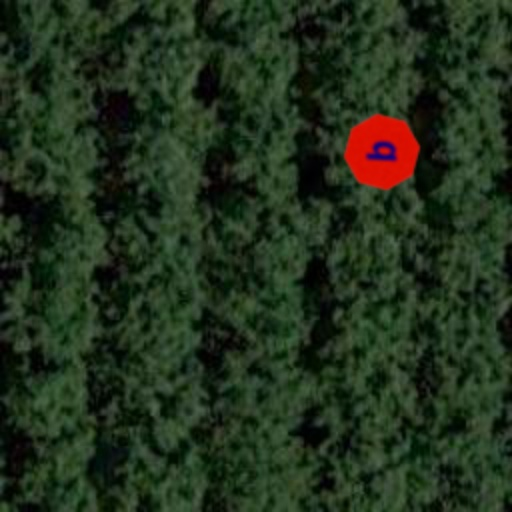octagon: (338, 108, 426, 196)
